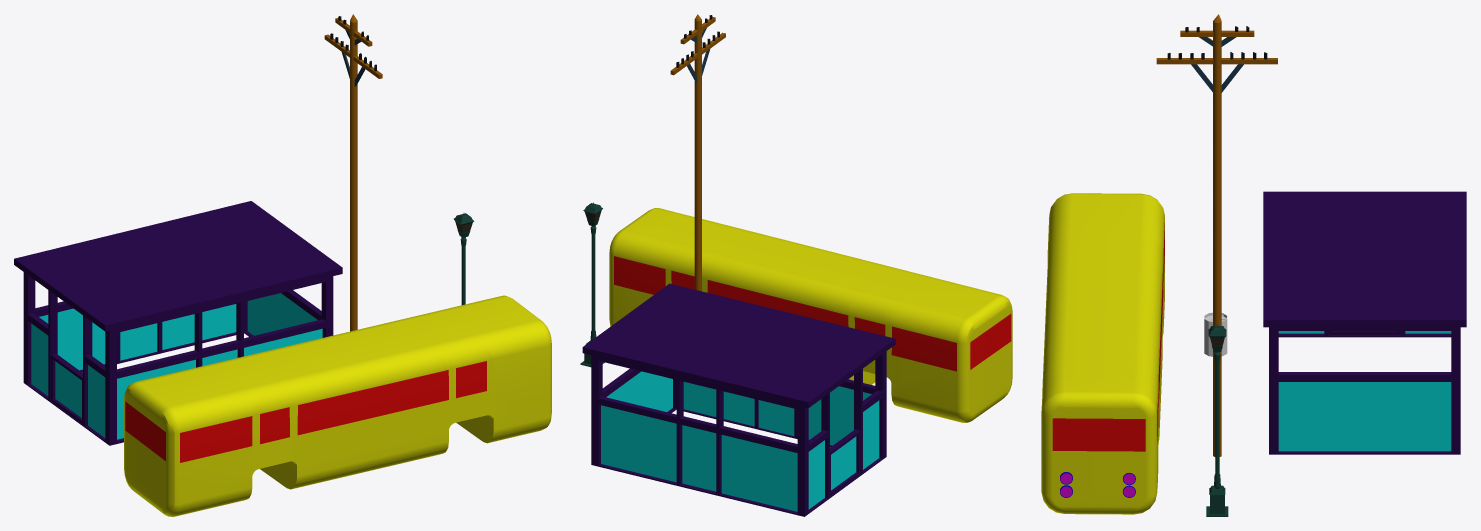
File: UVThree.fbx
3 renders of one model, left to right at view 1: azimuth 30°, elevation 25°; view 2: azimuth 150°, elevation 25°; view 3: azimuth 270°, elevation 25°, orthographic. The views are drawn at different scales.
Parts seen in each view (by area): view 1: Bus, TextureAtlas01_Alex_Blue_Combined_Greenhouse_Low_Garden_Thin, PowerLine, Streetlight; view 2: TextureAtlas01_Alex_Blue_Combined_Greenhouse_Low_Garden_Thin, Bus, PowerLine, Streetlight; view 3: TextureAtlas01_Alex_Blue_Combined_Greenhouse_Low_Garden_Thin, Bus, PowerLine, Streetlight, pCylinder23.
Part boxes in pixels (bbox=[...]): Bus: bbox=[124, 295, 551, 516]; TextureAtlas01_Alex_Blue_Combined_Greenhouse_Low_Garden_Thin: bbox=[14, 201, 342, 445]; PowerLine: bbox=[324, 14, 382, 331]; Streetlight: bbox=[454, 213, 474, 304]; TextureAtlas01_Alex_Blue_Combined_Greenhouse_Low_Garden_Thin: bbox=[582, 283, 895, 516]; Bus: bbox=[609, 208, 1012, 422]; PowerLine: bbox=[670, 14, 725, 291]; Streetlight: bbox=[580, 202, 604, 367]; TextureAtlas01_Alex_Blue_Combined_Greenhouse_Low_Garden_Thin: bbox=[1263, 191, 1466, 454]; Bus: bbox=[1041, 193, 1164, 514]; PowerLine: bbox=[1156, 14, 1277, 456]; Streetlight: bbox=[1206, 324, 1228, 516]; pCylinder23: bbox=[1204, 312, 1227, 356].
Size of the model in its own units: 10.27 by 10.17 by 8.87.
